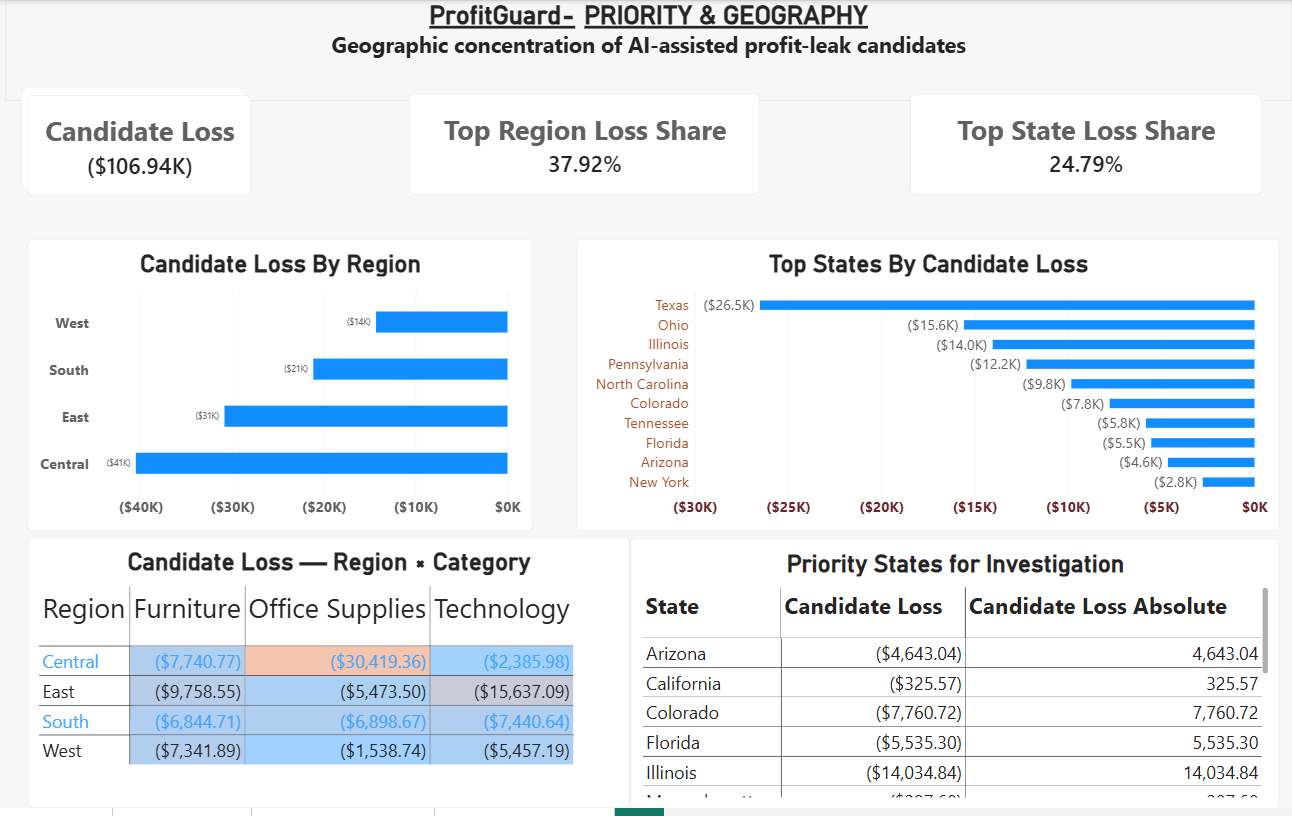

The page's visual inventory and layout, read from the dashboard file:
{"tool":"powerbi","page":{"name":"Page 1","canvas":[1920,1200],"ordinal":3},"visuals":[{"type":"textbox","box":[10,0,1910,150],"z":0},{"type":"cardVisual","fields":{"Data":["profitguard_full.Candidate Loss"]},"box":[32.6,130.3,331.2,150.2],"z":1000},{"type":"cardVisual","fields":{"Data":["profitguard_full.Top Region Loss Share"]},"box":[609.3,140,521.2,150.2],"z":2000},{"type":"cardVisual","fields":{"Data":["profitguard_full.Candidate Loss"]},"box":[42.6,140.3,331.2,150.2],"z":3000},{"type":"cardVisual","fields":{"Data":["profitguard_full.Top State Loss Share"]},"box":[1352.3,140,521.2,150.2],"z":4000},{"type":"clusteredBarChart","title":"Candidate Loss By Region","fields":{"Category":["profitguard_full.Region"],"Y":["profitguard_full.Candidate Loss"]},"box":[43.4,354.7,749.2,434.3],"z":5000},{"type":"clusteredBarChart","title":"Top States By Candidate Loss","fields":{"Category":["profitguard_full.State"],"Y":["profitguard_full.Candidate Loss"]},"box":[856.3,354,1043.6,434.3],"z":6000},{"type":"pivotTable","title":"Candidate Loss — Region × Category","fields":{"Columns":["profitguard_full.Category"],"Rows":["profitguard_full.Region"],"Values":["profitguard_full.Candidate Loss"]},"box":[43.2,798.6,893.3,401.4],"z":7000},{"type":"tableEx","title":"Priority States for Investigation","fields":{"Values":["profitguard_full.State","profitguard_full.Candidate Loss","profitguard_full.Candidate Loss Absolute"]},"box":[936,799,964,401],"z":8000}]}

Visuals, with their boxes in screenshot pixels (x1, y1, x2, y2), scaled from the page's 1920x1200 canvas onto the 1292x816 screenshot:
textbox: <box>7,0,1291,102</box>
cardVisual - profitguard_full.Candidate Loss: <box>22,89,245,191</box>
cardVisual - profitguard_full.Top Region Loss Share: <box>410,95,761,197</box>
cardVisual - profitguard_full.Candidate Loss: <box>29,95,252,198</box>
cardVisual - profitguard_full.Top State Loss Share: <box>910,95,1261,197</box>
"Candidate Loss By Region" clusteredBarChart: <box>29,241,533,537</box>
"Top States By Candidate Loss" clusteredBarChart: <box>576,241,1278,536</box>
"Candidate Loss — Region × Category" pivotTable: <box>29,543,630,815</box>
"Priority States for Investigation" tableEx: <box>630,543,1279,815</box>
